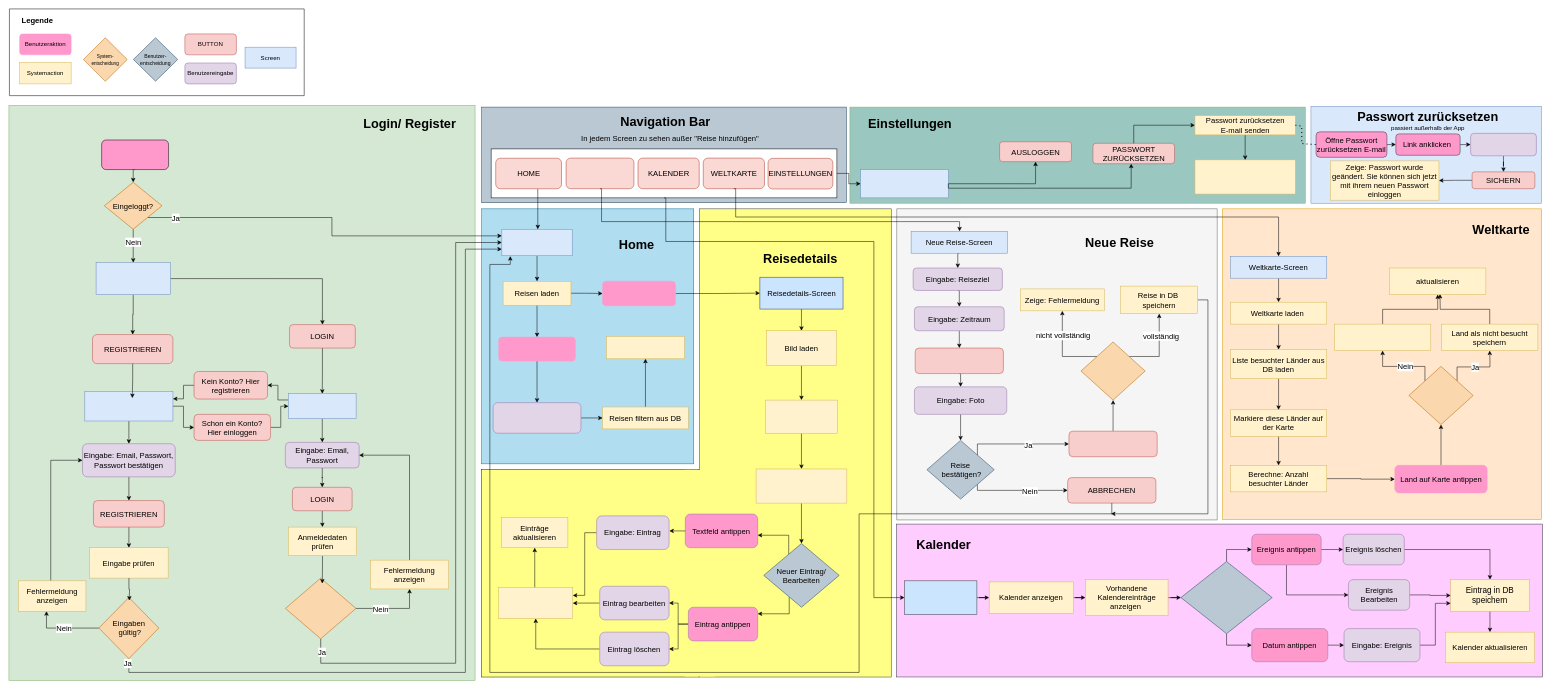
Image size: 1552x690. Some labels were removed from this diagram. Here are the shapes that lost their labels. From the top down, the box of each, then its label:
(101, 139, 169, 170): App öffnen
(1470, 133, 1536, 156): Eingabe: neues Passwort
(566, 158, 634, 189): REISE HINZUFÜGEN
(860, 169, 948, 198): Einstellungen-Screen
(1194, 159, 1295, 194): zeige Nachricht: Passwort zurücksetzen E-mail wurde gesendet
(501, 229, 572, 256): Home-Screen
(96, 262, 170, 295): Start-Screen
(602, 281, 675, 306): Reise auswählen
(498, 337, 575, 361): Suchleiste antippen
(606, 336, 684, 359): gefilterte Reisen anzeigen
(1334, 324, 1431, 351): Land als besucht speichern
(915, 348, 1003, 374): FOTO WÄHLEN
(1080, 341, 1145, 400): Pflichtfelder prüfen?
(84, 391, 173, 421): Register-Screen
(288, 393, 356, 419): Login-Screen
(1408, 366, 1473, 425): Land schon markiert?
(493, 402, 581, 433): Eingabe: Reise suchen nach Land/Datum
(765, 400, 838, 433): Reisedaten aus DB laden
(1068, 431, 1157, 457): FERTIG
(756, 468, 847, 503): Einträge untereinander anzeigen
(285, 578, 356, 639): Anmeldedaten gültig?
(498, 587, 573, 619): Änderungen Speichern in DB
(904, 580, 977, 614): Kalender-Screen
(1180, 561, 1272, 634): Neuer Eintrag/Bearbeiten?
